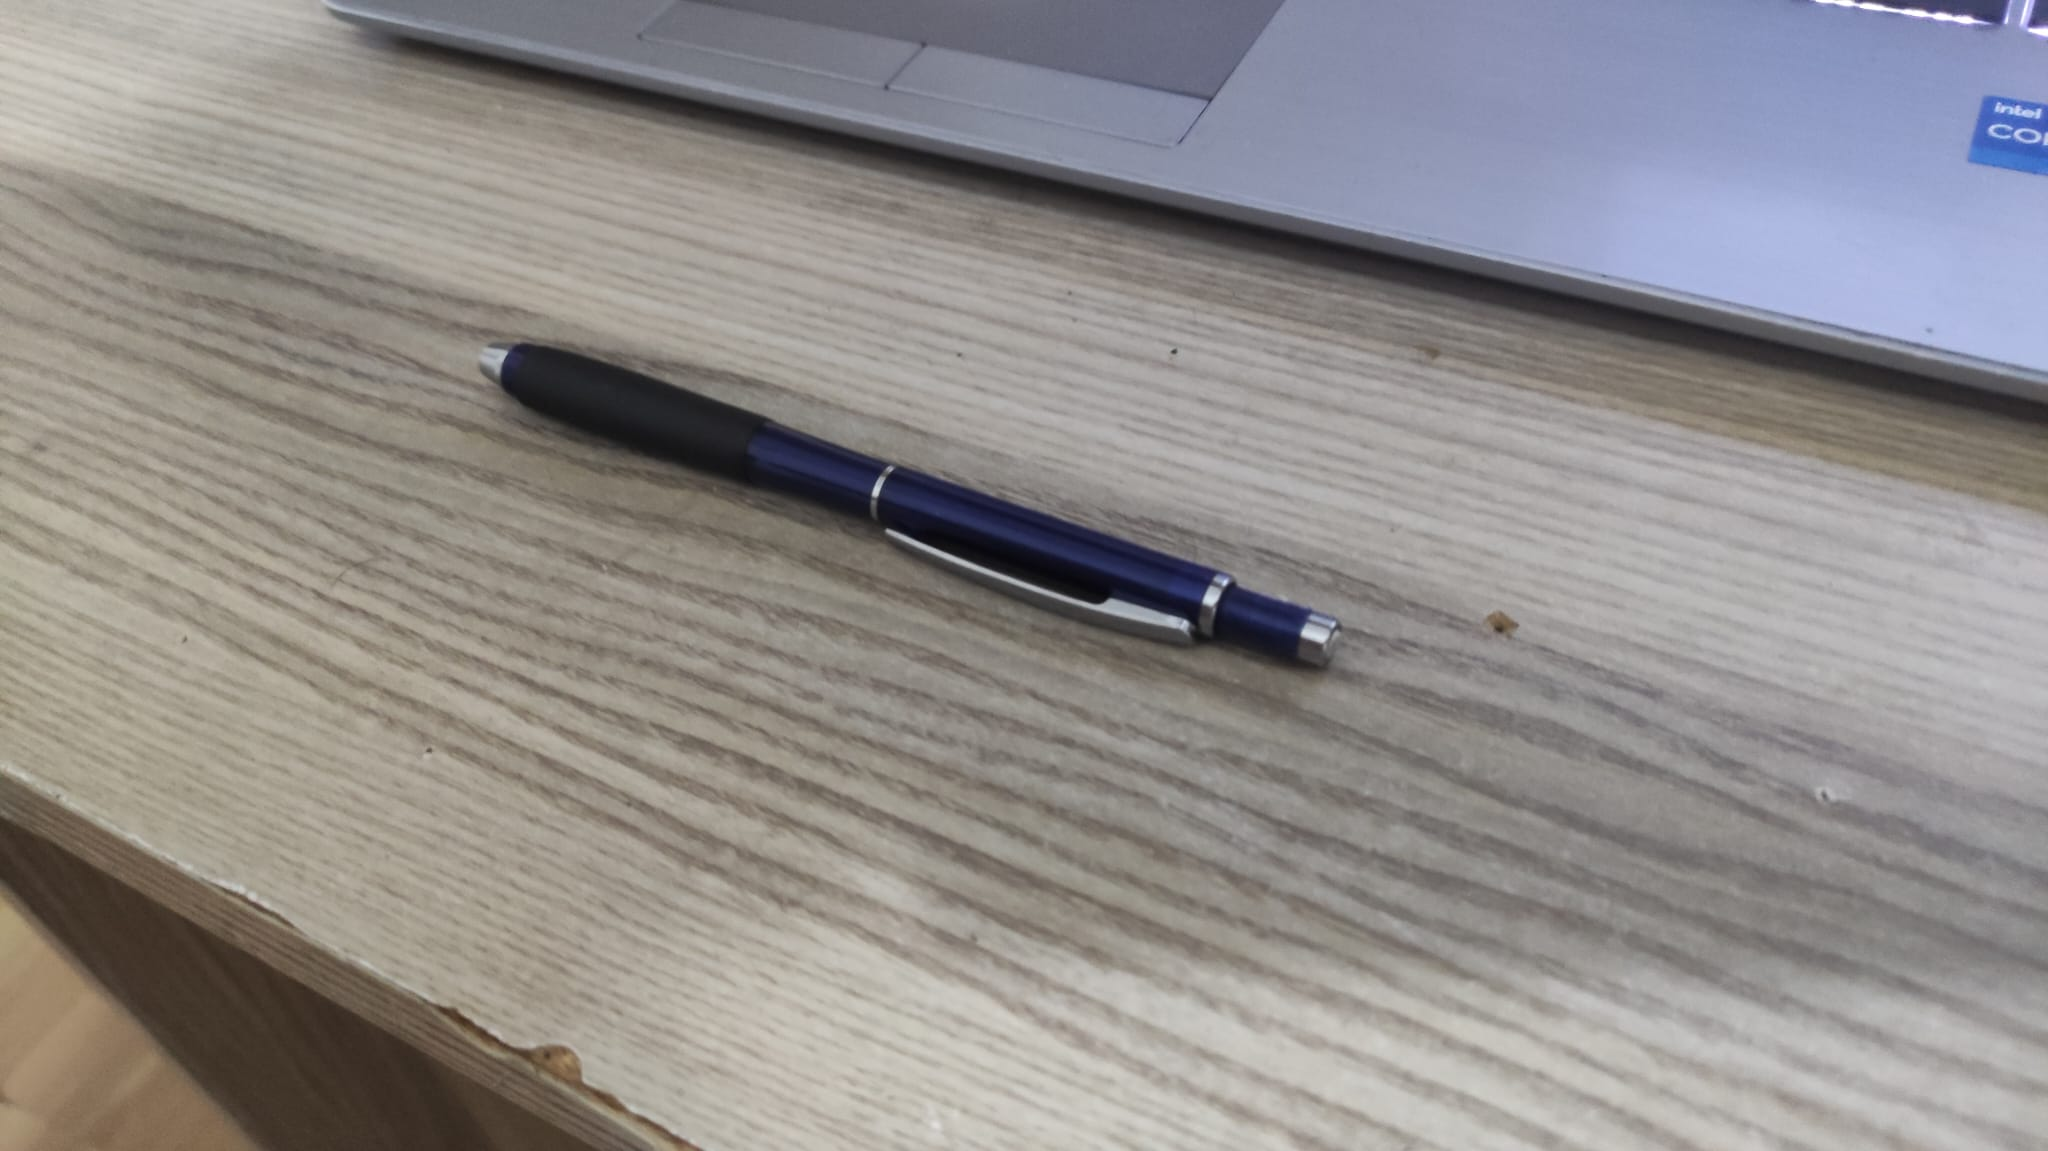kalem: (484, 338, 1350, 687)
